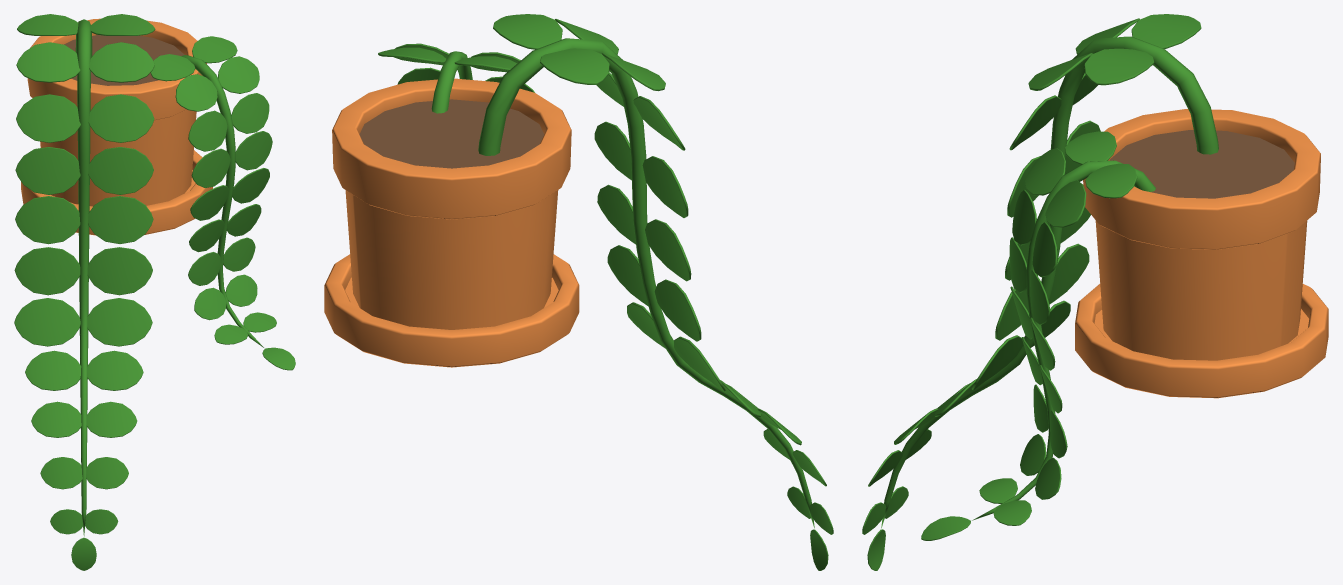
The model's file is Plant_33.glb.
3 renders of one model, left to right at view 1: azimuth 30°, elevation 25°; view 2: azimuth 150°, elevation 25°; view 3: azimuth 270°, elevation 25°, orthographic. The views are drawn at different scales.
Visible parts, largest first — view 1: Plant_33; view 2: Plant_33; view 3: Plant_33.
Boxes of the visible parts, x1,y1,x2,y2 form: Plant_33: (14, 14, 295, 570); Plant_33: (324, 14, 833, 570); Plant_33: (862, 14, 1328, 570).
Size of the model in its own units: 0.6875 by 1.07 by 0.7567.
Materials: 1 (1 with a texture image).
